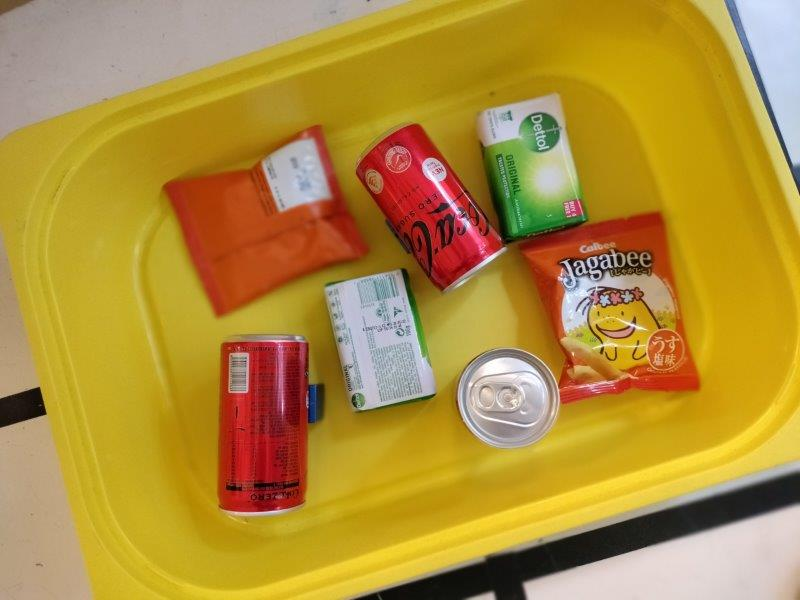Coke: (354, 120, 506, 295), (219, 334, 308, 514), (454, 347, 562, 448)
Dettol: (476, 93, 588, 243), (325, 267, 437, 414)
Jagabee: (163, 124, 371, 317), (517, 211, 703, 402)
